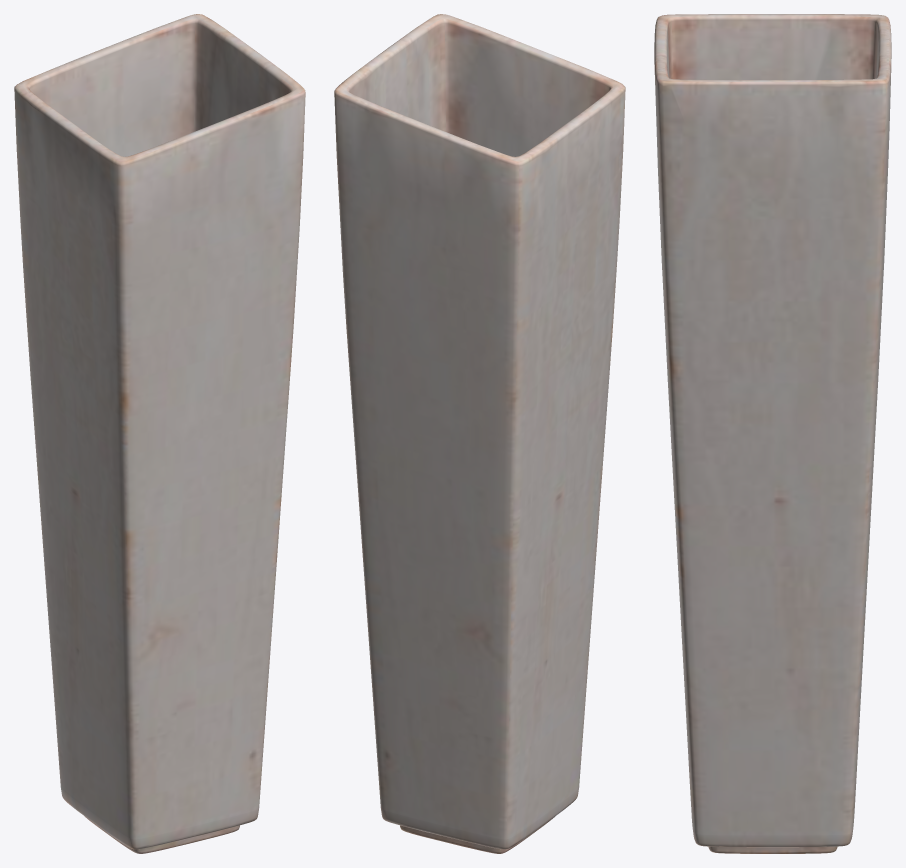
Rendered from ceramic_vase_03.glb.
3 views of the same model, side by side, from view 1: azimuth 30°, elevation 25°; view 2: azimuth 150°, elevation 25°; view 3: azimuth 270°, elevation 25° (orthographic). The views are drawn at different scales.
Visible parts, largest first — view 1: ceramic_vase_03; view 2: ceramic_vase_03; view 3: ceramic_vase_03.
Part boxes in pixels (x1,y1,x2,y2): ceramic_vase_03: (14, 14, 305, 853); ceramic_vase_03: (334, 14, 625, 853); ceramic_vase_03: (654, 14, 891, 853).
Size of the model in its own units: 0.1122 by 0.4143 by 0.1122.
1 material, 1 textured.
